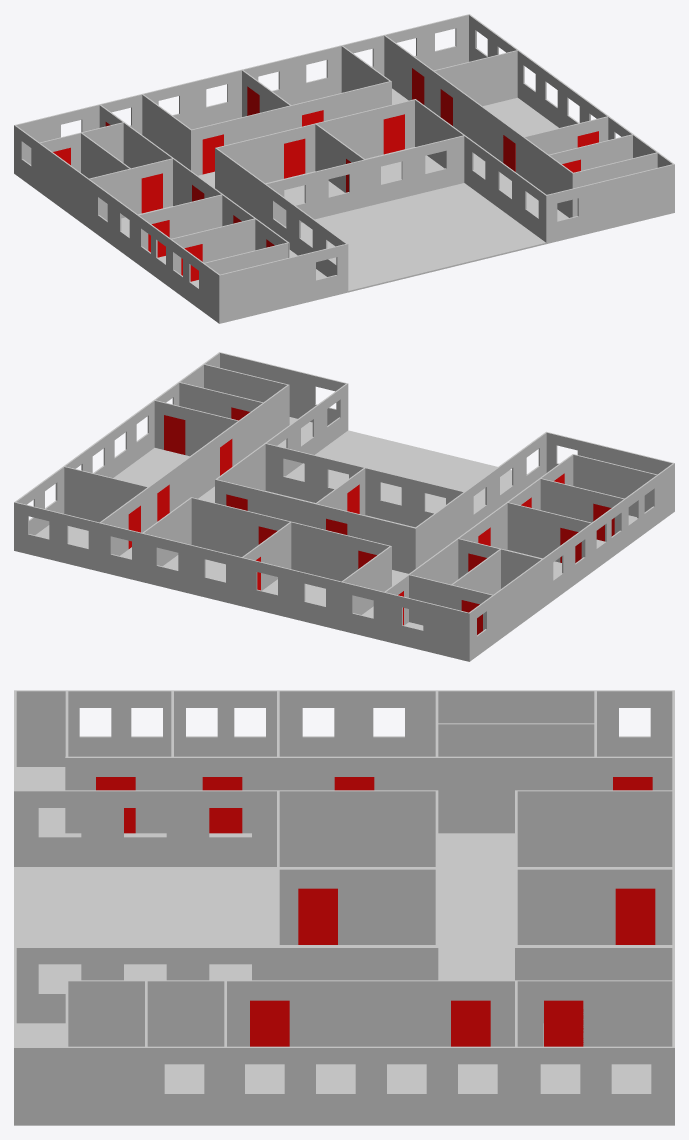
The model's file is batiment.fbx.
3 renders of one model, top to bottom at view 1: azimuth 30°, elevation 25°; view 2: azimuth 150°, elevation 25°; view 3: azimuth 270°, elevation 25°, orthographic. The views are drawn at different scales.
Visible parts, largest first — view 1: Sol, Mur_nord, Mur_ouest, Mur_classes_cour, Mur_couloir_est_droite, Mur_sud_ouest, Mur_sud_est, Mur_classes_sud, Mur_couloir_est_sud_gauche, Mur_couloir_ouest_sud_droite, Mur_classes_nord, Mur_est (+19 smaller); view 2: Mur_nord, Sol, Mur_ouest, Mur_classes_nord, Mur_couloir_est_droite, Mur_classes_cour, Mur_classes_sud, Mur_est, Mur_couloir_ouest_sud_droite, Mur_couloir_est_sud_gauche, Mur_couloir_ouest_gauche, Mur_douches_dortoir (+16 smaller); view 3: Sol, Mur_est, Mur_couloir_est_droite, Mur_ouest, Mur_couloir_ouest_sud_droite, Mur_couloir_ouest_gauche, Mur_couloir_est_sud_gauche, Mur_couloir_ouest_nord_droite, Mur_centre_classes_centre, Mur_centre_classes_fond, Mur_couloir_est_nord_gauche, Mur_vestiaire_chaufferie (+9 smaller).
Boxes of the visible parts, x1=… form: Sol: x1=14, y1=88, x2=674, y2=323; Mur_nord: x1=14, y1=14, x2=468, y2=164; Mur_ouest: x1=14, y1=125, x2=220, y2=322; Mur_classes_cour: x1=265, y1=135, x2=464, y2=226; Mur_couloir_est_droite: x1=384, y1=34, x2=573, y2=217; Mur_sud_ouest: x1=218, y1=244, x2=347, y2=322; Mur_sud_est: x1=546, y1=164, x2=674, y2=243; Mur_classes_sud: x1=215, y1=99, x2=415, y2=188; Mur_couloir_est_sud_gauche: x1=415, y1=99, x2=546, y2=242; Mur_couloir_ouest_sud_droite: x1=215, y1=148, x2=348, y2=291; Mur_classes_nord: x1=190, y1=81, x2=391, y2=175; Mur_est: x1=468, y1=14, x2=674, y2=212; Mur_nord: x1=14, y1=502, x2=470, y2=660; Sol: x1=14, y1=417, x2=674, y2=661; Mur_ouest: x1=468, y1=463, x2=674, y2=660; Mur_classes_nord: x1=191, y1=497, x2=391, y2=586; Mur_couloir_est_droite: x1=98, y1=384, x2=289, y2=570; Mur_classes_cour: x1=265, y1=443, x2=463, y2=527; Mur_classes_sud: x1=215, y1=479, x2=416, y2=573; Mur_est: x1=14, y1=352, x2=219, y2=549; Mur_couloir_ouest_sud_droite: x1=415, y1=431, x2=546, y2=567; Mur_couloir_est_sud_gauche: x1=216, y1=383, x2=348, y2=490; Mur_couloir_ouest_gauche: x1=383, y1=454, x2=573, y2=639; Mur_douches_dortoir: x1=507, y1=502, x2=593, y2=570; Sol: x1=14, y1=767, x2=674, y2=1125; Mur_est: x1=14, y1=1046, x2=674, y2=1124; Mur_couloir_est_droite: x1=66, y1=980, x2=674, y2=1046; Mur_ouest: x1=14, y1=690, x2=674, y2=766; Mur_couloir_ouest_sud_droite: x1=14, y1=790, x2=436, y2=866; Mur_couloir_ouest_gauche: x1=65, y1=756, x2=674, y2=833; Mur_couloir_est_sud_gauche: x1=14, y1=946, x2=436, y2=1023; Mur_couloir_ouest_nord_droite: x1=516, y1=790, x2=673, y2=866; Mur_centre_classes_centre: x1=278, y1=868, x2=435, y2=944; Mur_centre_classes_fond: x1=516, y1=868, x2=674, y2=944; Mur_couloir_est_nord_gauche: x1=516, y1=946, x2=674, y2=1022; Mur_vestiaire_chaufferie: x1=437, y1=723, x2=595, y2=756.
Bounding box in the file's own units: 32 × 3.25 × 25.
